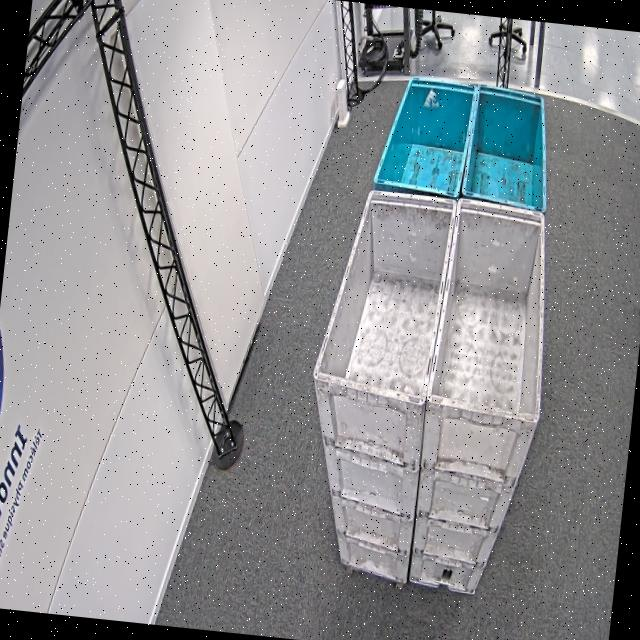Roll4G: (308, 182, 458, 410), (425, 194, 562, 424)
RollB4: (371, 72, 478, 200), (458, 80, 559, 214)
